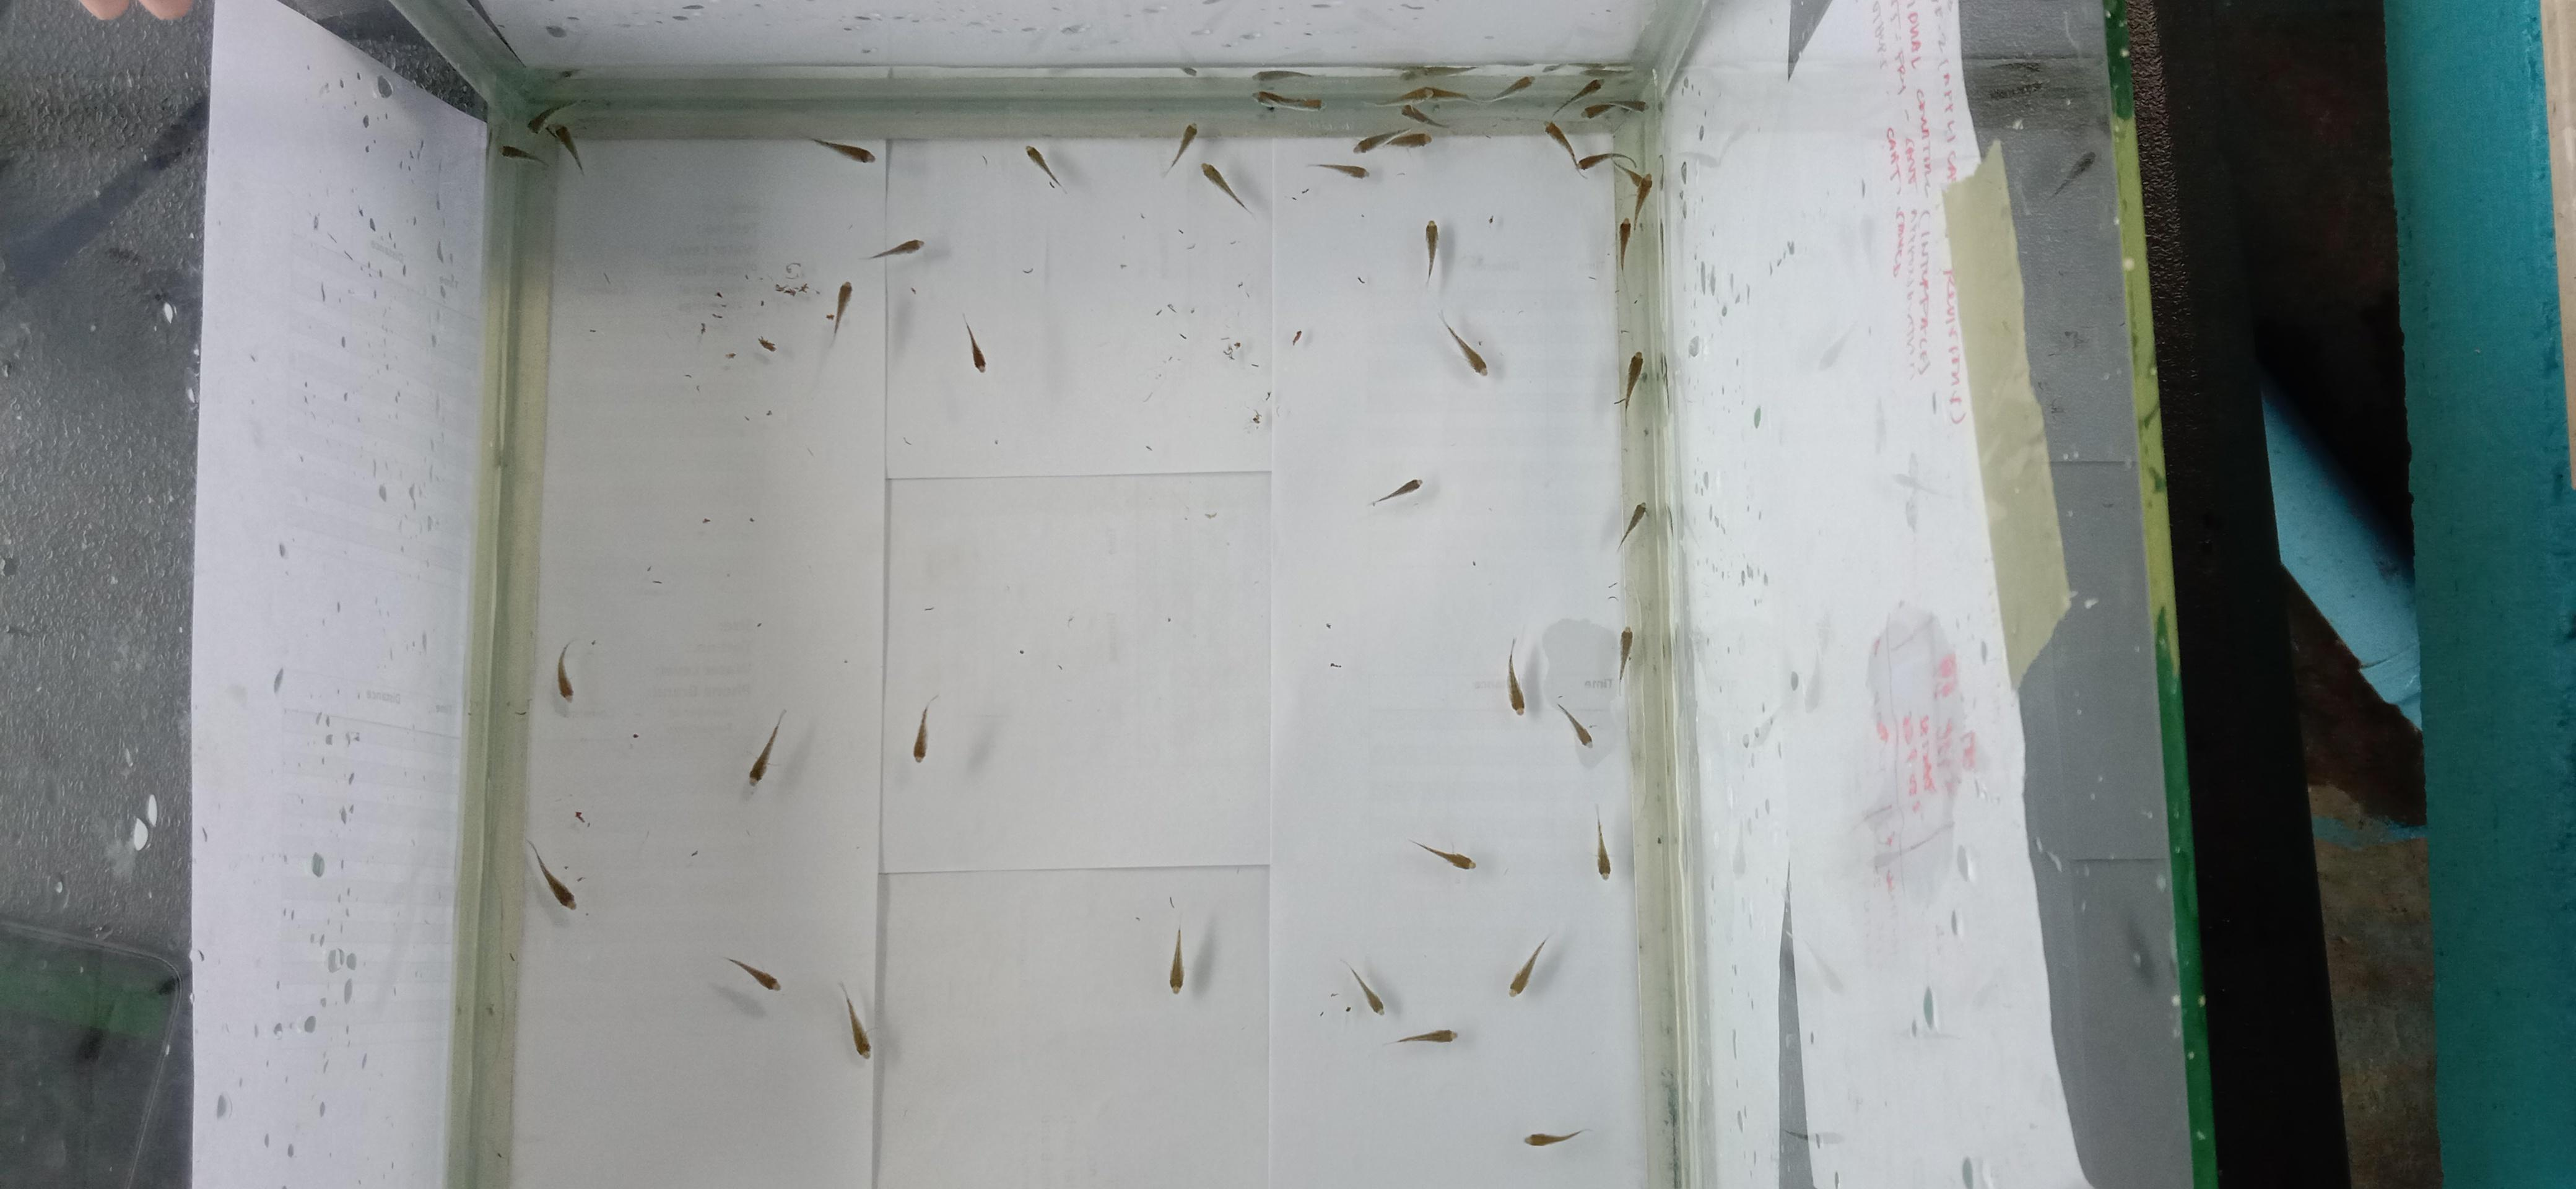fish: (1543, 122, 1635, 172), (526, 836, 577, 911), (1439, 310, 1488, 376), (1577, 151, 1653, 194), (747, 708, 785, 783), (839, 980, 871, 1058), (1201, 163, 1249, 212), (1508, 938, 1548, 997), (544, 122, 583, 174), (724, 956, 780, 992), (1411, 839, 1475, 870), (1354, 128, 1429, 154), (1347, 964, 1385, 1015), (1543, 122, 1580, 169), (810, 136, 874, 164), (1556, 701, 1592, 747), (1617, 351, 1644, 407), (1025, 145, 1060, 189), (1166, 123, 1198, 171), (1506, 642, 1526, 714), (1370, 478, 1421, 506), (963, 315, 987, 373), (1561, 79, 1602, 113), (1618, 503, 1648, 550), (1255, 90, 1322, 110), (1615, 166, 1654, 199), (1594, 808, 1612, 879), (830, 281, 853, 335), (1403, 102, 1447, 130), (555, 640, 575, 703), (1525, 1128, 1585, 1148), (1492, 74, 1534, 102), (910, 703, 930, 762), (869, 238, 923, 259), (1168, 926, 1184, 994), (1579, 151, 1635, 171), (1584, 100, 1644, 118), (498, 143, 544, 166), (1423, 218, 1439, 279), (1398, 1028, 1456, 1044), (1309, 163, 1367, 179), (1410, 85, 1470, 100), (1618, 627, 1633, 680), (1390, 131, 1429, 149), (1631, 171, 1654, 200), (1618, 218, 1631, 268), (1584, 102, 1613, 118)
